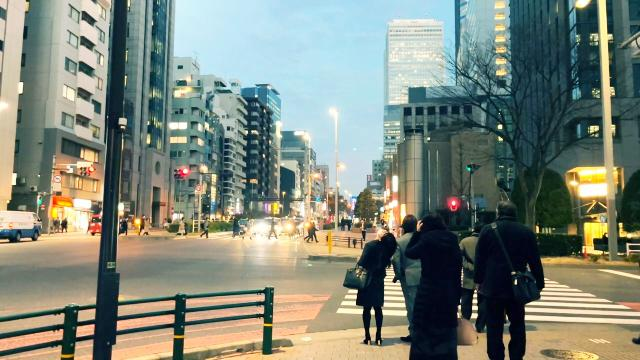berdiri: (469, 200, 538, 358), (405, 208, 467, 360), (348, 221, 392, 347), (394, 210, 424, 340)
